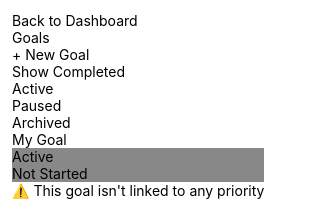
Scenario: GoalsScreen › List View › navigates to detail view when goal pressed
What coordinates should you click on to do the following:
click the button with aria-label "Goal: My Goal"
I would click on:
 (138, 165)
Its box is [12,131,264,199].
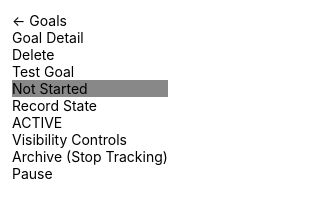
Expected: the text "Goal Detail" is shown, [12,29,84,46]
